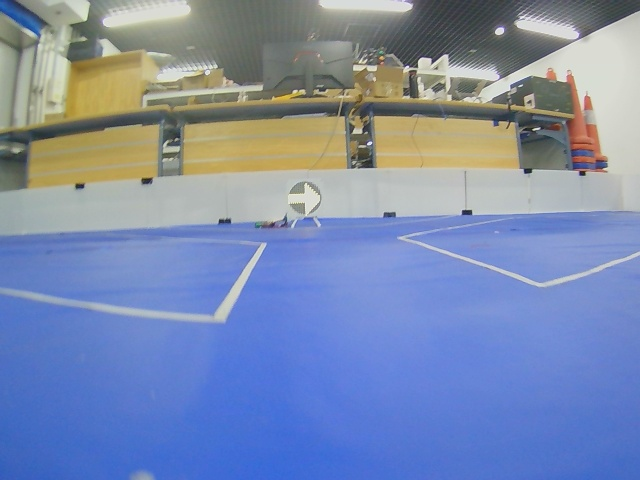right_yellow: (288, 181, 321, 216)
